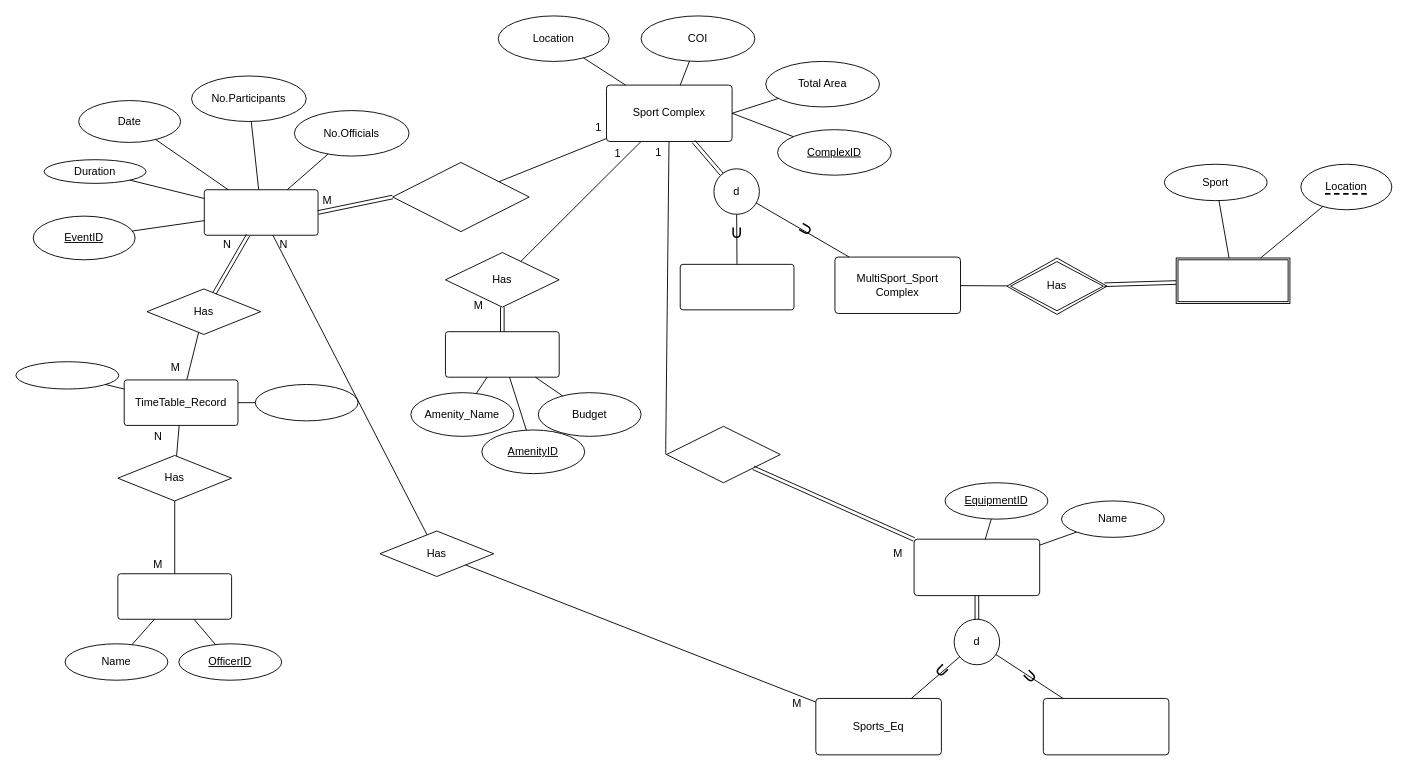
Image size: 1408x771. Some labels were removed from this diagram. The box of each missing label's shape, as (x1, y1, x2, y2) in pixels:
Amenity: (445, 331, 559, 377)
Area: (1175, 257, 1290, 303)
Equipment: (913, 538, 1040, 596)
Event: (203, 189, 318, 235)
Hold by: (392, 162, 529, 232)
Maintenance_Eq: (1042, 698, 1169, 755)
Officer: (117, 573, 232, 619)
OneSport_Sport Complex: (679, 263, 794, 310)
Owns: (666, 425, 780, 483)
Time Slot: (254, 384, 358, 421)
TimeSlotID: (15, 361, 119, 389)
